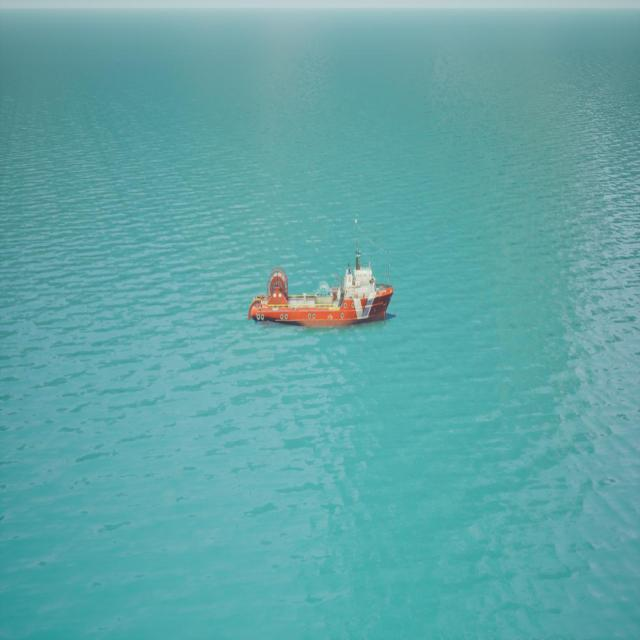tug boat: (247, 254, 398, 333)
